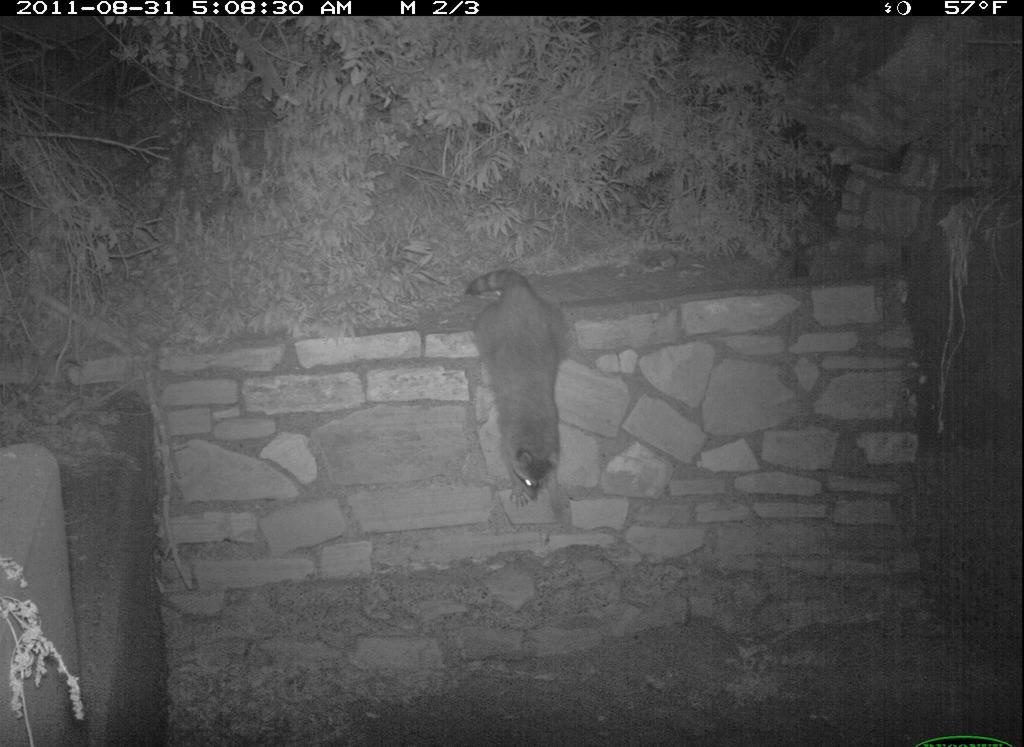raccoon: (457, 267, 587, 514)
